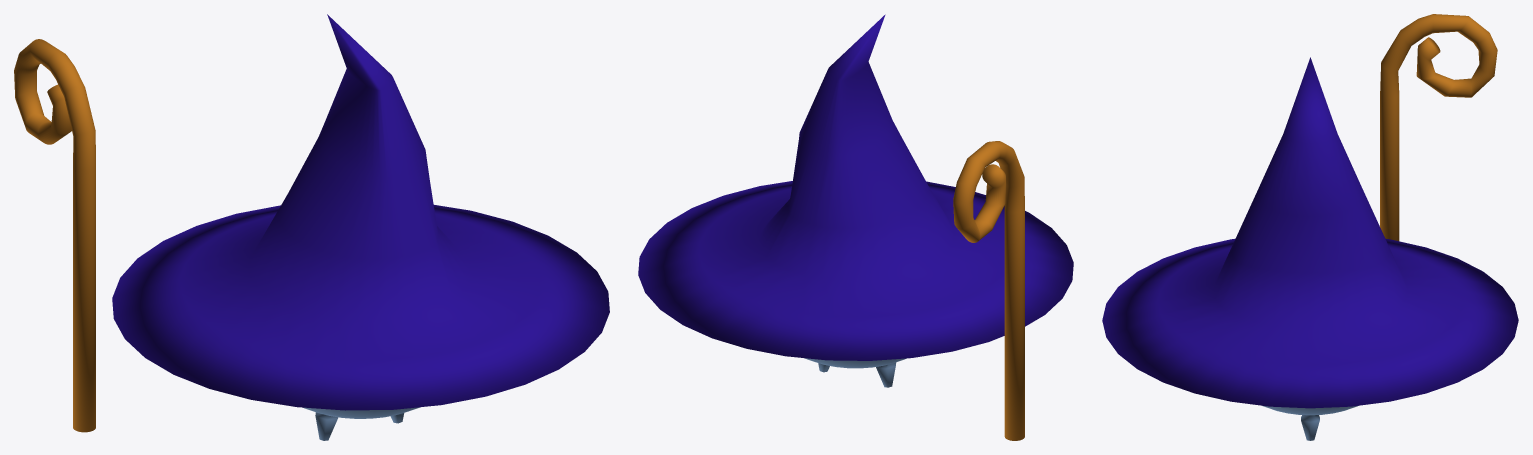
File: Wizard.fbx
3 renders of one model, left to right at view 1: azimuth 30°, elevation 25°; view 2: azimuth 150°, elevation 25°; view 3: azimuth 270°, elevation 25°, orthographic. The views are drawn at different scales.
Visible parts, largest first — view 1: Sphere; view 2: Sphere; view 3: Sphere.
Boxes of the visible parts, left/top/right/bottom form: Sphere: left=14, top=14, right=609, bottom=440; Sphere: left=638, top=14, right=1073, bottom=440; Sphere: left=1102, top=14, right=1518, bottom=440.
Bounding box in the file's own units: 405 × 362 × 385.
